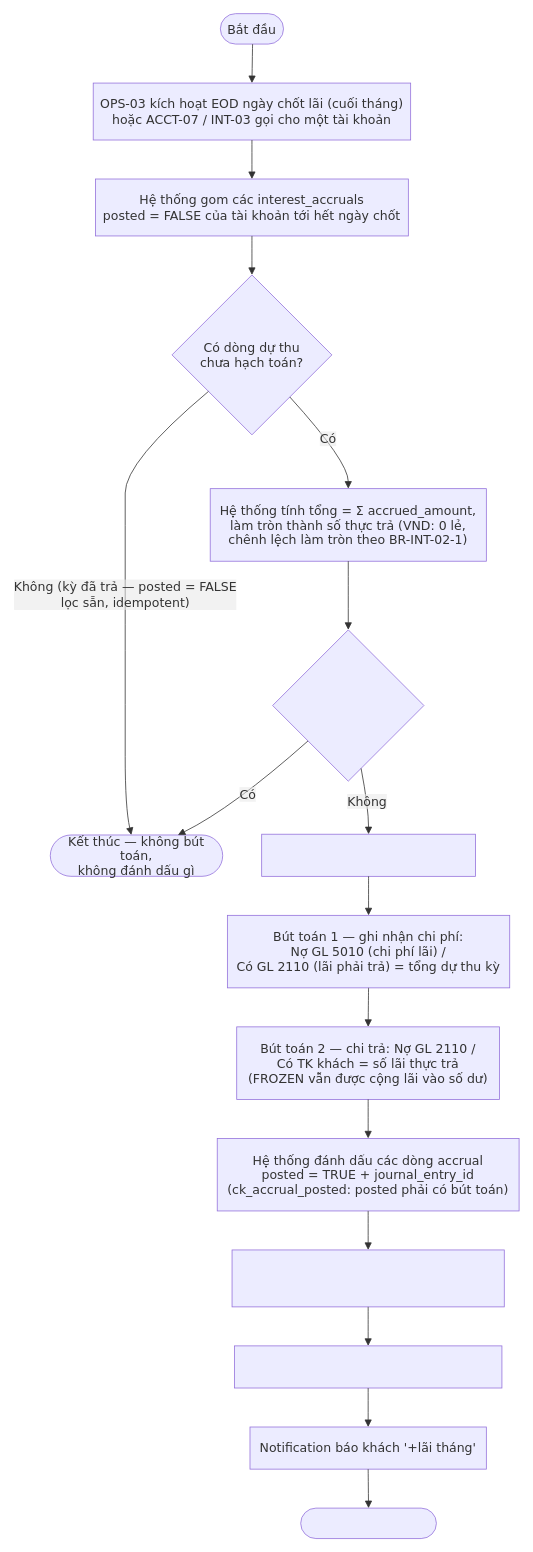
Some shapes in this 533 by 1552 pixel diagram are drawn without their labels. Each missing label, with the centre of its shape:
"Commit transaction — value_date = ngày chốt kỳ (BR-INT-02-2)" goes at [367,1278].
"Hệ thống ghi outbox interest.posted.v1" goes at [368,1366].
"Hệ thống mở một transaction" goes at [368,854].
"Kết thúc — lãi đã trả" goes at [368,1523].
"Tổng lãi kỳ = 0?" goes at [348,705].
